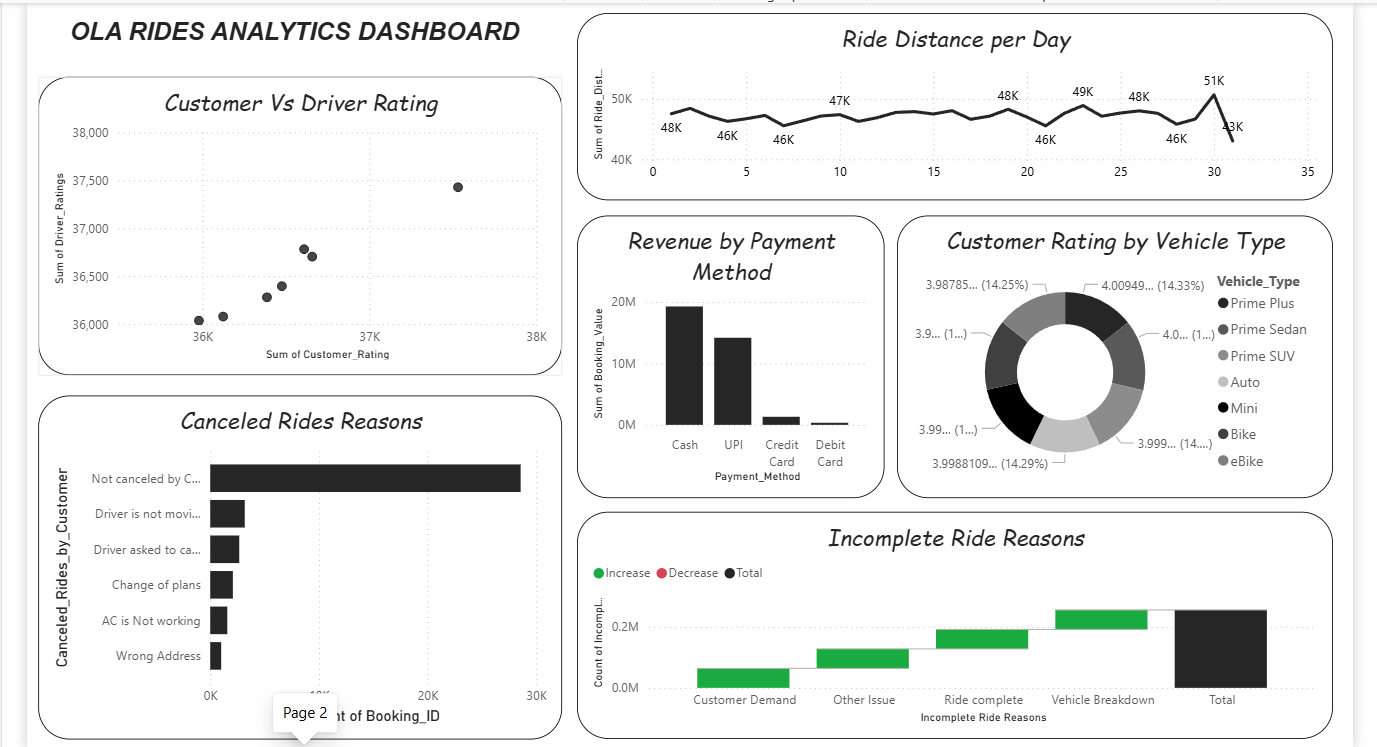

This screenshot's page, from the dashboard's own definition file:
{"tool":"powerbi","page":{"name":"Page 2","canvas":[1280,720],"ordinal":1},"visuals":[{"type":"donutChart","title":"Customer Rating by Vehicle Type","fields":{"Category":["Sheet1.Vehicle_Type"],"Y":["Avg(Sheet1.Customer_Rating)"]},"box":[839.7,205.1,421,272.7],"z":0},{"type":"clusteredBarChart","title":"Canceled  Rides Reasons ","fields":{"Category":["OLA_Cancel_data.Canceled_Rides_by_Customer"],"Y":["CountNonNull(OLA_Cancel_data.Booking_ID)"]},"box":[10.9,378.8,505.5,331.8],"z":1000},{"type":"lineChart","title":"Ride Distance per Day","fields":{"Category":["Sheet1.Date.Variation.Date Hierarchy.Day"],"Y":["Sum(Sheet1.Ride_Distance)"]},"box":[530.8,9.7,729.9,181],"z":2000},{"type":"scatterChart","title":"Customer Vs Driver Rating","fields":{"Category":["Sheet1.Vehicle_Type"],"X":["Sum(Sheet1.Customer_Rating)"],"Y":["Sum(Sheet1.Driver_Ratings)"]},"box":[10.9,71.2,505.5,288.3],"z":3000},{"type":"lineStackedColumnComboChart","title":"Revenue by Payment Method","fields":{"Category":["Sheet1.Payment_Method"],"Y":["Sum(Sheet1.Booking_Value)"]},"box":[530.8,205.1,296.8,272.7],"z":4000},{"type":"waterfallChart","title":" Incomplete Ride Reasons","fields":{"Category":["OLA_success_data.Incomplete_Rides_Reason"],"Y":["CountNonNull(Sheet1.Incomplete_Rides)"]},"box":[530.8,491,729.9,219.6],"z":5000},{"type":"textbox","box":[0,9.7,516.4,41],"z":6000}]}

Visuals, with their boxes on the page's 1280x720 design canvas (x1, y1, x2, y2). These are canvas units, not pixel positions in the 1377x747 screenshot, which may show the page scaled, cropped or inside an application window:
"Customer Rating by Vehicle Type" donutChart: bbox(840, 205, 1261, 478)
"Canceled  Rides Reasons " clusteredBarChart: bbox(11, 379, 516, 711)
"Ride Distance per Day" lineChart: bbox(531, 10, 1261, 191)
"Customer Vs Driver Rating" scatterChart: bbox(11, 71, 516, 360)
"Revenue by Payment Method" lineStackedColumnComboChart: bbox(531, 205, 828, 478)
" Incomplete Ride Reasons" waterfallChart: bbox(531, 491, 1261, 711)
textbox: bbox(0, 10, 516, 51)
